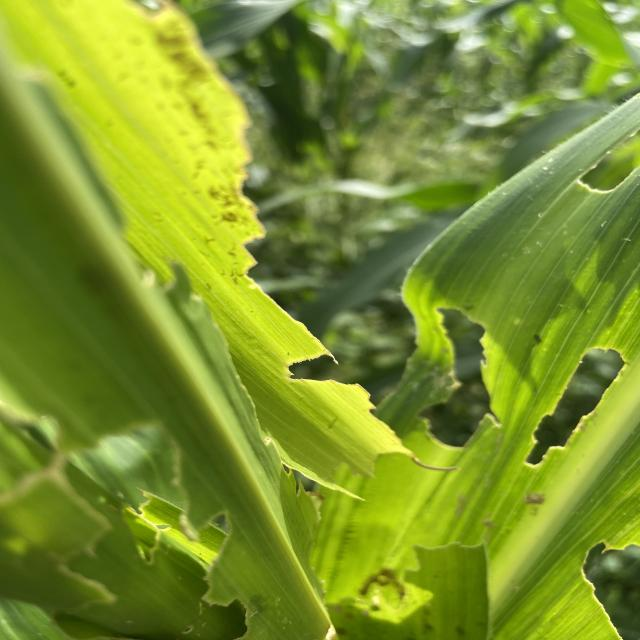fall-armyworm-egg: (115, 15, 261, 257), (293, 570, 419, 640)
fall-armyworm-larval-damage: (0, 398, 243, 640), (249, 284, 528, 467), (322, 515, 524, 629), (516, 312, 626, 492), (194, 418, 373, 521), (551, 521, 640, 637), (518, 128, 640, 202)
